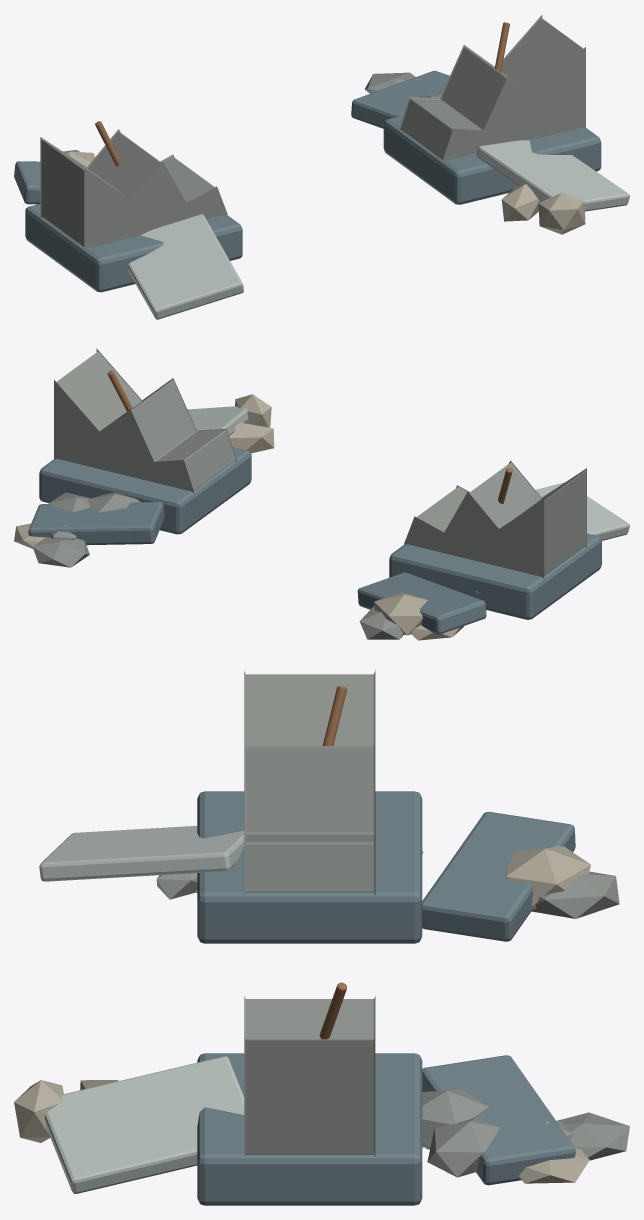
File: wall_standard_d3.glb
3 views of the same model, one above another, from view 1: azimuth 30°, elevation 25°; view 2: azimuth 150°, elevation 25°; view 3: azimuth 270°, elevation 25° (orthographic). The views are drawn at different scales.
Parts seen in each view (by area): view 1: Broken core stump.001, Broken core stump, Buckled armor fragment, Surviving end footing.001, Surviving end footing, Buckled armor fragment.001, Fallen cap fragment.001, Fractured core debris.016, Fractured core debris.010, Fallen cap fragment, Fractured core debris.012; view 2: Broken core stump.001, Broken core stump, Surviving end footing, Surviving end footing.001, Fallen cap fragment.001, Fallen cap fragment, Fractured core debris.019, Fractured core debris.012, Buckled armor fragment, Buckled armor fragment.001, Fractured core debris.010, Fractured core debris.017 (+5 smaller); view 3: Broken core stump, Broken core stump.001, Surviving end footing, Surviving end footing.001, Buckled armor fragment.001, Fallen cap fragment, Fallen cap fragment.001, Buckled armor fragment, Fractured core debris.019, Fractured core debris.018, Fractured core debris.017, Fractured core debris.012 (+4 smaller).
Part boxes in pixels (x1,y1,x2,y2): Broken core stump.001: [398, 15, 585, 162]; Broken core stump: [40, 129, 227, 249]; Buckled armor fragment: [128, 214, 243, 319]; Surviving end footing.001: [383, 115, 601, 204]; Surviving end footing: [25, 204, 242, 292]; Buckled armor fragment.001: [476, 140, 629, 211]; Fallen cap fragment.001: [351, 70, 449, 128]; Fractured core debris.016: [538, 192, 585, 234]; Fractured core debris.010: [501, 184, 541, 221]; Fallen cap fragment: [14, 161, 40, 204]; Fractured core debris.012: [364, 72, 415, 93]; Broken core stump.001: [54, 348, 236, 493]; Broken core stump: [404, 460, 586, 578]; Surviving end footing: [389, 533, 601, 619]; Surviving end footing.001: [39, 447, 251, 534]; Fallen cap fragment.001: [28, 502, 164, 545]; Fallen cap fragment: [357, 572, 486, 634]; Fractured core debris.019: [374, 592, 427, 635]; Fractured core debris.012: [32, 537, 89, 567]; Buckled armor fragment: [535, 482, 629, 540]; Buckled armor fragment.001: [187, 406, 248, 435]; Fractured core debris.010: [229, 422, 274, 453]; Fractured core debris.017: [359, 606, 403, 639]; Broken core stump: [244, 670, 375, 895]; Broken core stump.001: [244, 996, 375, 1156]; Surviving end footing: [197, 791, 422, 943]; Surviving end footing.001: [197, 1053, 422, 1205]; Buckled armor fragment.001: [45, 1056, 244, 1193]; Fallen cap fragment: [422, 811, 575, 941]; Fallen cap fragment.001: [421, 1055, 575, 1185]; Buckled armor fragment: [39, 826, 244, 881]; Fractured core debris.019: [506, 846, 590, 909]; Fractured core debris.018: [427, 1117, 499, 1177]; Fractured core debris.017: [531, 871, 619, 918]; Fractured core debris.012: [556, 1112, 629, 1160].
Bounding box in the file's own units: 4 × 0.9702 × 2.82.
